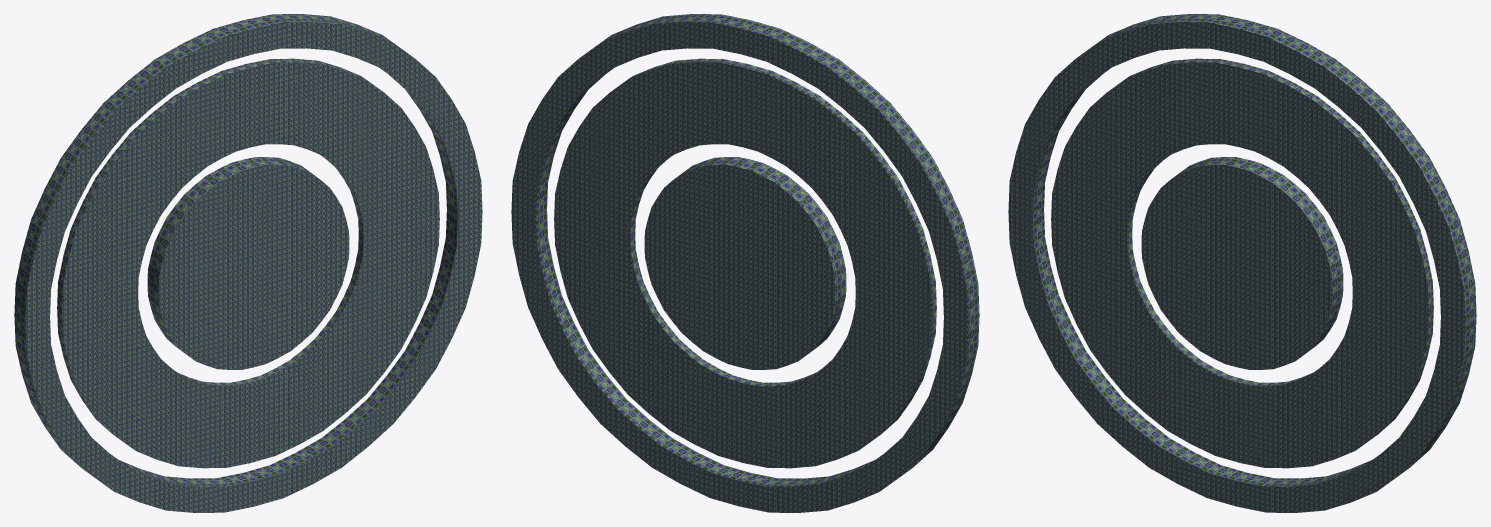
Rendered from Coin.FBX.
3 renders of one model, left to right at view 1: azimuth 30°, elevation 25°; view 2: azimuth 150°, elevation 25°; view 3: azimuth 330°, elevation 25°, orthographic.
Parts seen in each view (by area): view 1: Cylinder014, Object006, Object007; view 2: Cylinder014, Object006, Object007; view 3: Cylinder014, Object006, Object007.
Boxes of the visible parts, x1,y1,x2,y2 form: Cylinder014: (57, 58, 439, 468); Object006: (14, 14, 482, 512); Object007: (147, 157, 349, 369); Cylinder014: (554, 58, 936, 468); Object006: (511, 14, 979, 512); Object007: (644, 157, 846, 369); Cylinder014: (1051, 58, 1433, 468); Object006: (1008, 14, 1476, 512); Object007: (1141, 157, 1343, 369).
Size of the model in its own units: 800 by 800 by 33.49.
Materials: 1 (1 with a texture image).
